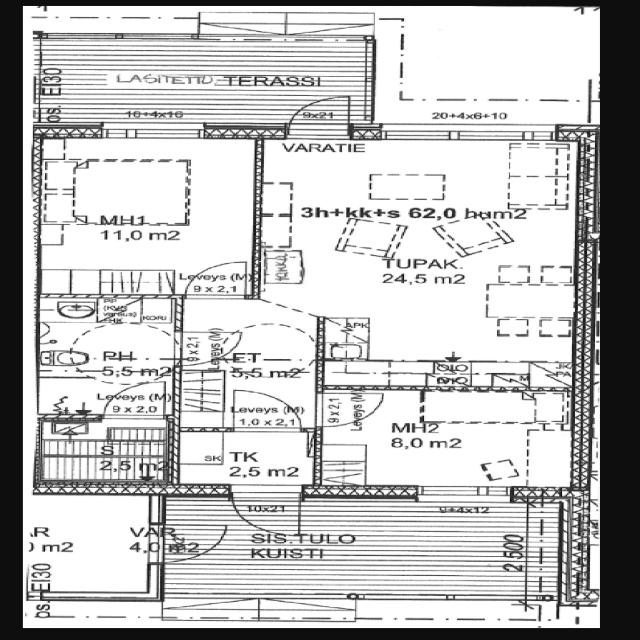door: (232, 492, 304, 545), (281, 89, 355, 137), (229, 389, 304, 432), (317, 389, 386, 427), (183, 261, 250, 299), (160, 528, 227, 562)
window: (374, 128, 556, 144), (410, 482, 504, 503), (106, 123, 210, 140), (377, 126, 463, 141), (31, 422, 46, 453), (30, 299, 46, 325)
zone: (260, 128, 598, 384), (32, 134, 263, 299), (313, 387, 581, 492), (17, 494, 160, 598), (36, 296, 180, 376), (168, 428, 320, 494), (40, 412, 167, 488), (39, 373, 176, 418), (34, 294, 153, 322)
